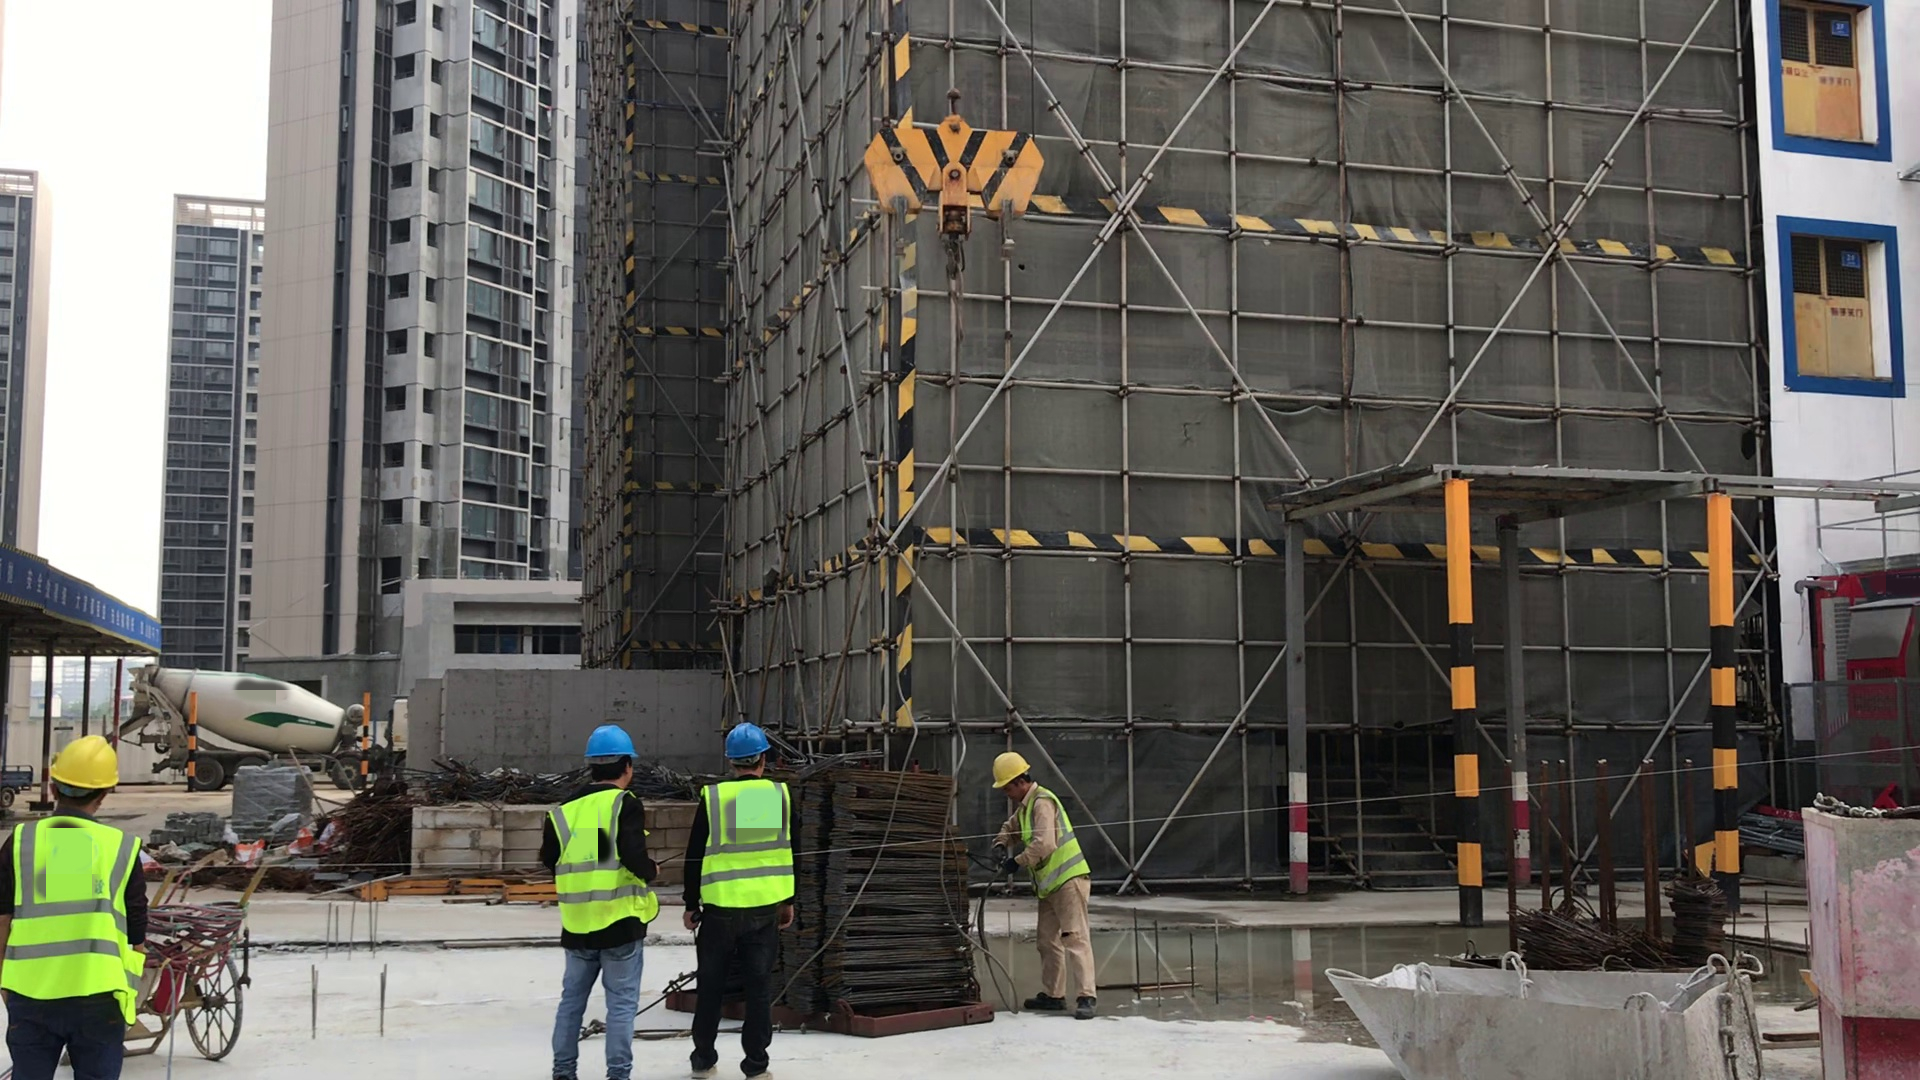handcart: (144, 848, 278, 1067)
hook: (860, 86, 1048, 286)
hopper: (1324, 946, 1759, 1080)
person: (11, 735, 147, 1080), (534, 720, 658, 1080), (686, 722, 802, 1080), (986, 750, 1104, 1023)
slogan: (1, 545, 162, 664)
